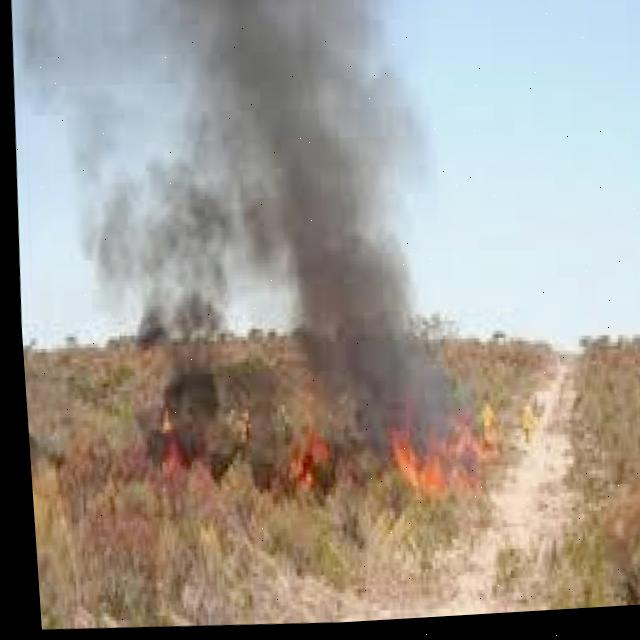smoke: (11, 0, 406, 456), (157, 349, 213, 460), (243, 374, 271, 489)
